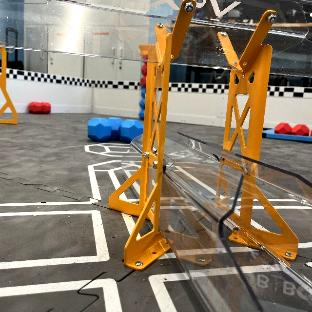Goal: (0, 43, 17, 123)
Med_goal: (162, 132, 312, 294)
Parking - B: (263, 128, 312, 142)
V5_BLUE: (88, 117, 142, 142), (140, 100, 144, 119)
V5_RED: (29, 101, 50, 113)
